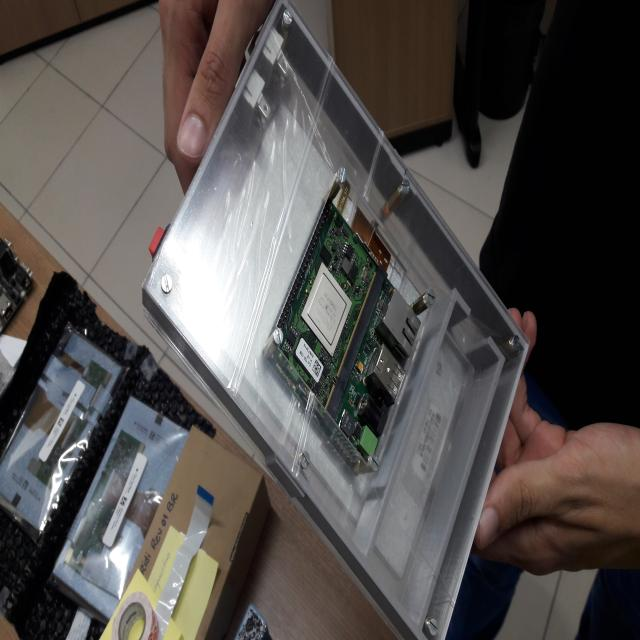som: (266, 212, 387, 402), (26, 360, 119, 484), (69, 432, 155, 550)
